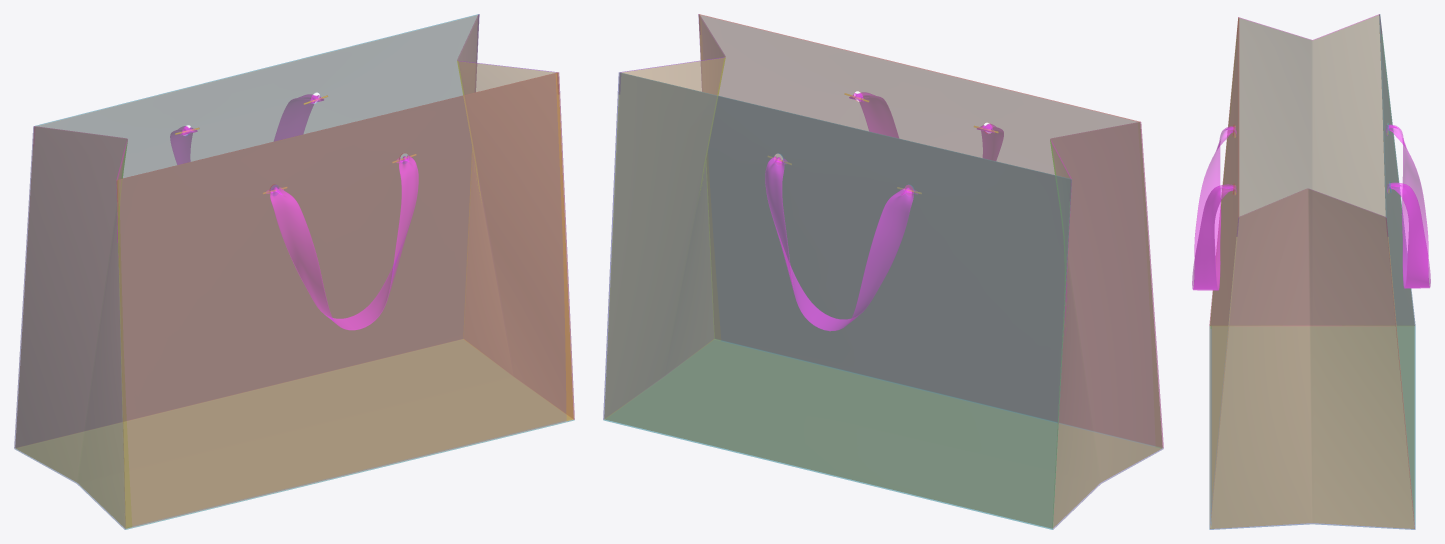
The model's file is wdie_paper_bag.glb.
3 views of the same model, side by side, from view 1: azimuth 30°, elevation 25°; view 2: azimuth 150°, elevation 25°; view 3: azimuth 270°, elevation 25° (orthographic). The views are drawn at different scales.
Parts seen in each view (by area): view 1: wide_paper_bag; view 2: wide_paper_bag; view 3: wide_paper_bag.
Part boxes in pixels (bbox=[...]): wide_paper_bag: bbox=[14, 14, 574, 529]; wide_paper_bag: bbox=[603, 14, 1163, 529]; wide_paper_bag: bbox=[1192, 14, 1430, 529].
Size of the model in its own units: 28.01 by 20.03 by 13.87.
